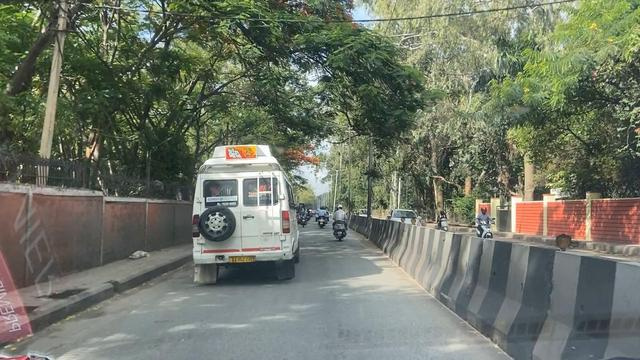HMV: (196, 141, 294, 287)
LMV: (335, 205, 347, 243), (317, 205, 327, 228)
